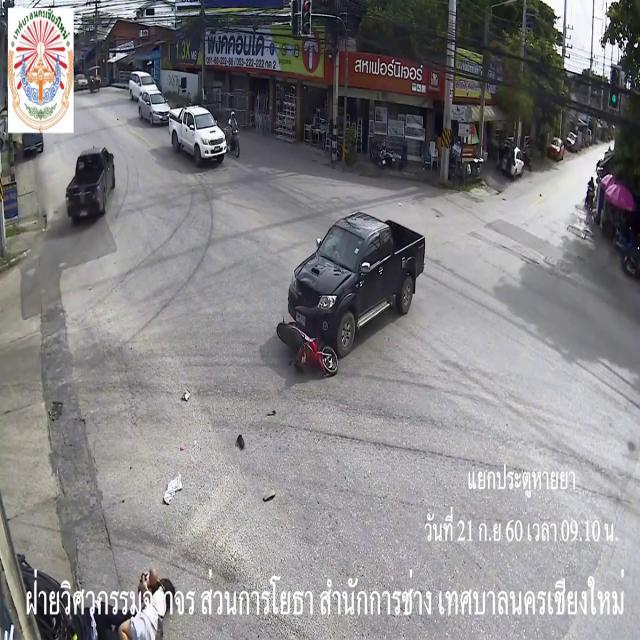multiple_accident: (282, 186, 457, 392)
normal: (71, 37, 307, 200)
